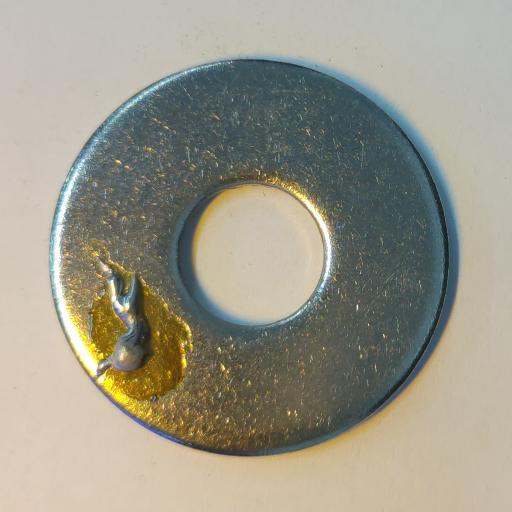excess_material: (97, 258, 149, 377)
